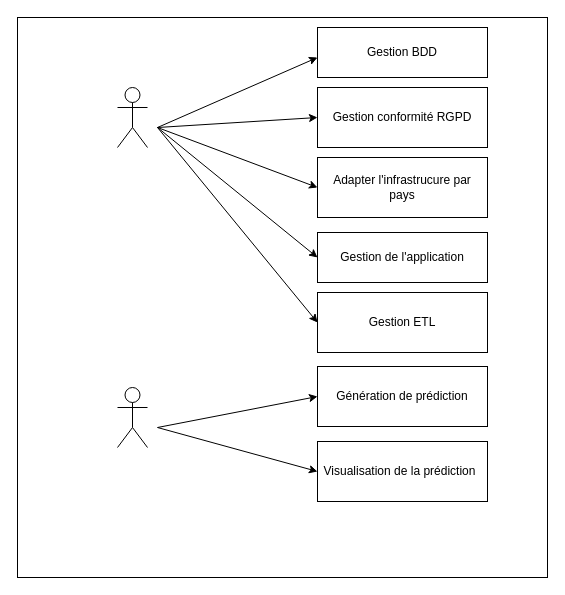
The diagram is 565 pixels wide and 595 high, and some of its shapes have lost their labels. Here are the shapes that lost their labels. From the top down, the centre of each, then its label:
(132,117): Administrateur
(132,417): Utilisateur
